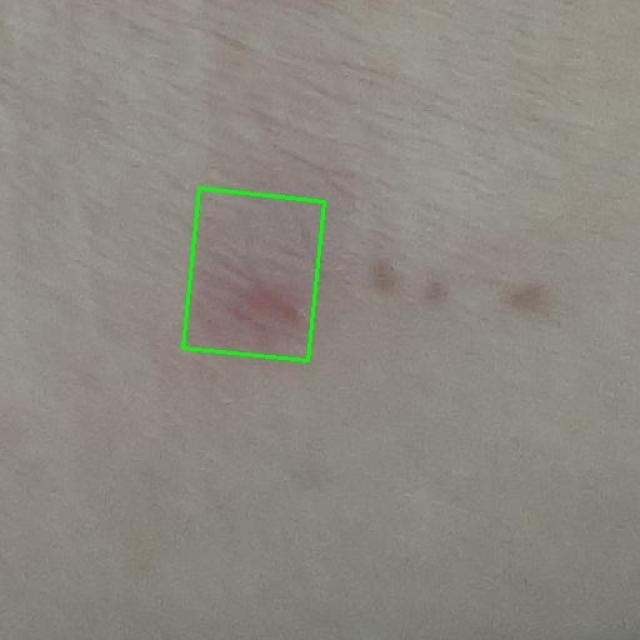Tinea Corporis: (183, 189, 325, 361)
